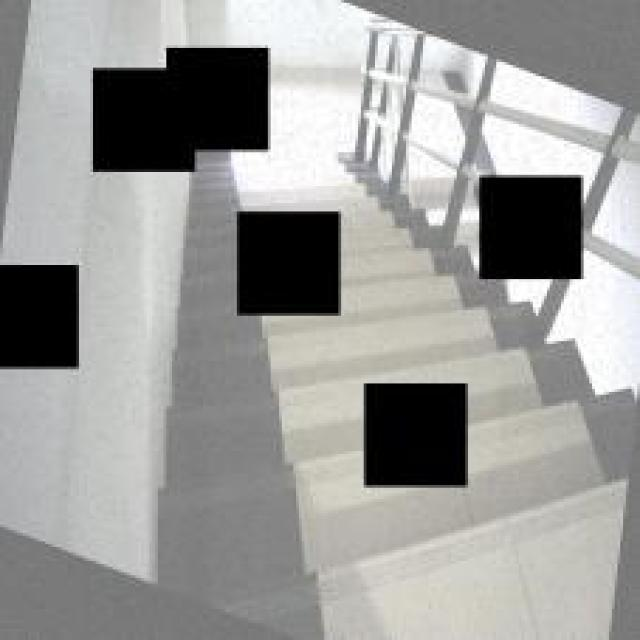downstair: (172, 344, 364, 637)
